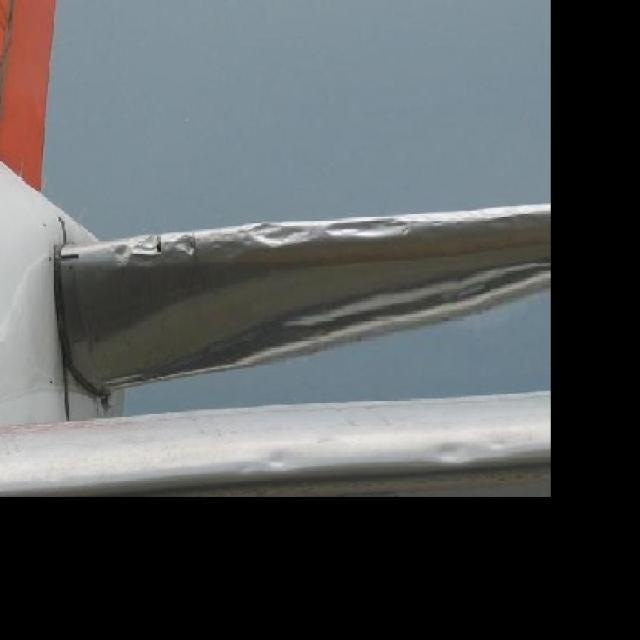dent: (323, 221, 411, 244), (245, 224, 320, 250), (438, 440, 466, 468), (135, 236, 166, 261), (173, 234, 206, 257), (107, 246, 133, 268), (266, 449, 289, 471)
